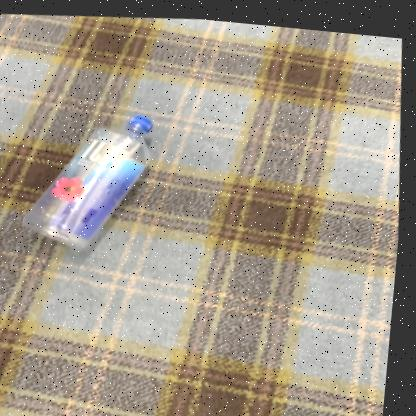Plastic: (26, 113, 155, 248)
